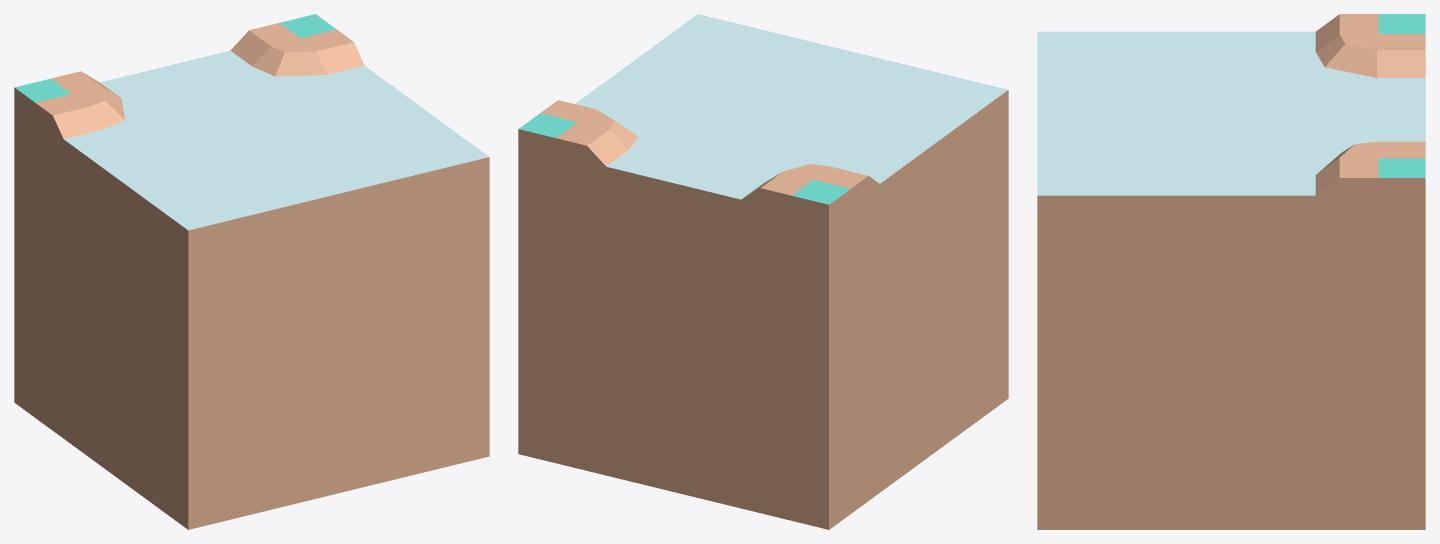
The model's file is blockRiverDoubleTip.fbx.
3 views of the same model, side by side, from view 1: azimuth 30°, elevation 25°; view 2: azimuth 150°, elevation 25°; view 3: azimuth 270°, elevation 25° (orthographic). The views are drawn at different scales.
Visible parts, largest first — view 1: blockRiverDoubleTip; view 2: blockRiverDoubleTip; view 3: blockRiverDoubleTip.
Part boxes in pixels (left/top/right/bottom): blockRiverDoubleTip: left=14, top=14, right=489, bottom=529; blockRiverDoubleTip: left=518, top=14, right=1008, bottom=529; blockRiverDoubleTip: left=1037, top=14, right=1425, bottom=529.
Bounding box in the file's own units: 1 × 1 × 1.
